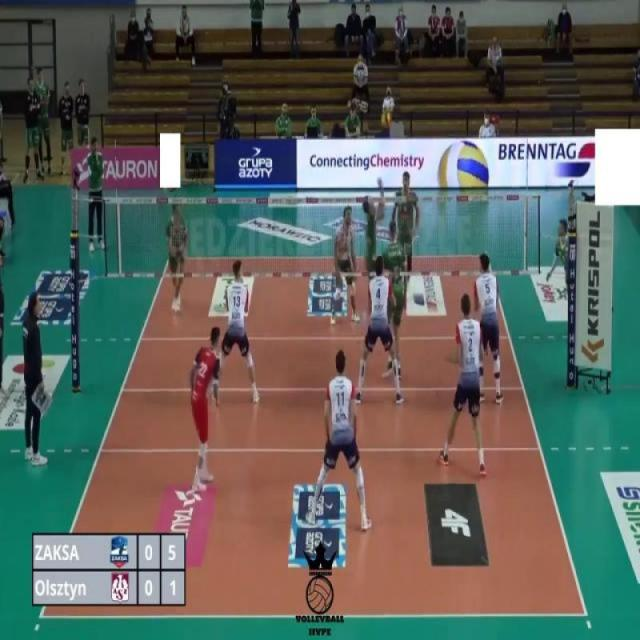volleyball: (436, 138, 489, 192), (380, 109, 392, 130)
